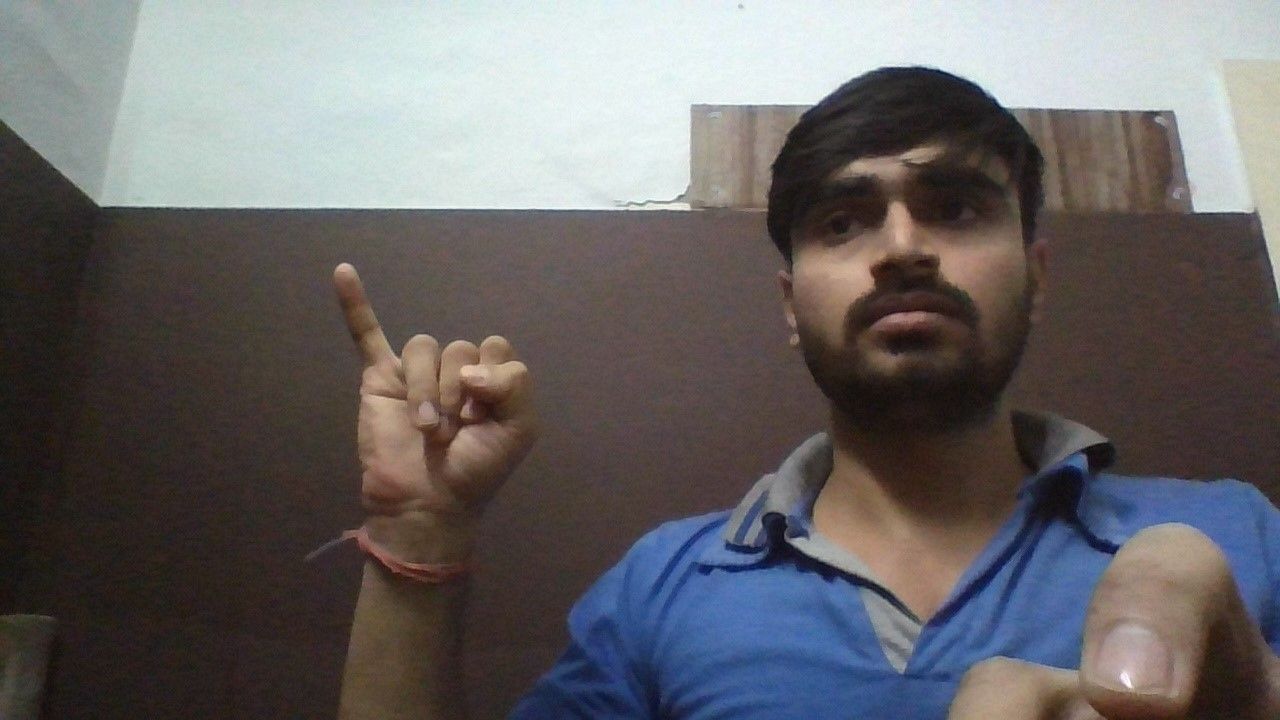I: (307, 247, 559, 512)
